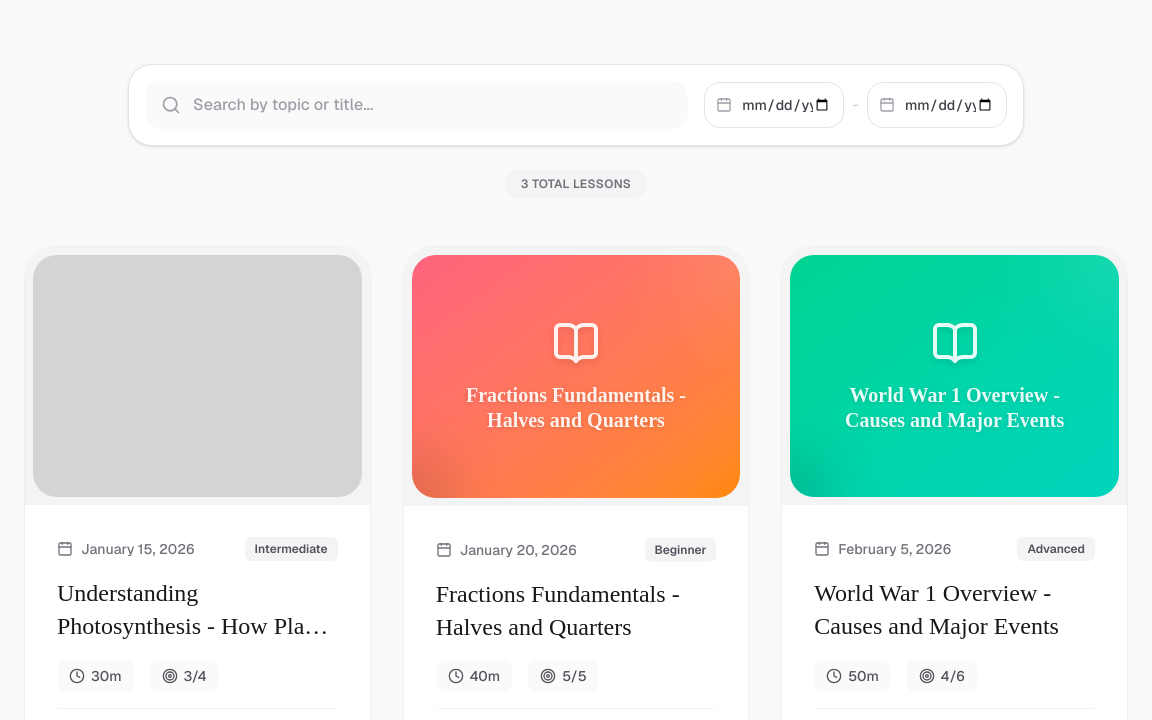
Test: LessonHistoryClient › filters lessons by search query and updates the URL
The image size is (1152, 720).
Type "History" into the field with placeholder "Search by topic or title..." at (417, 105), box top-left (145, 81), bottom-right (688, 129)
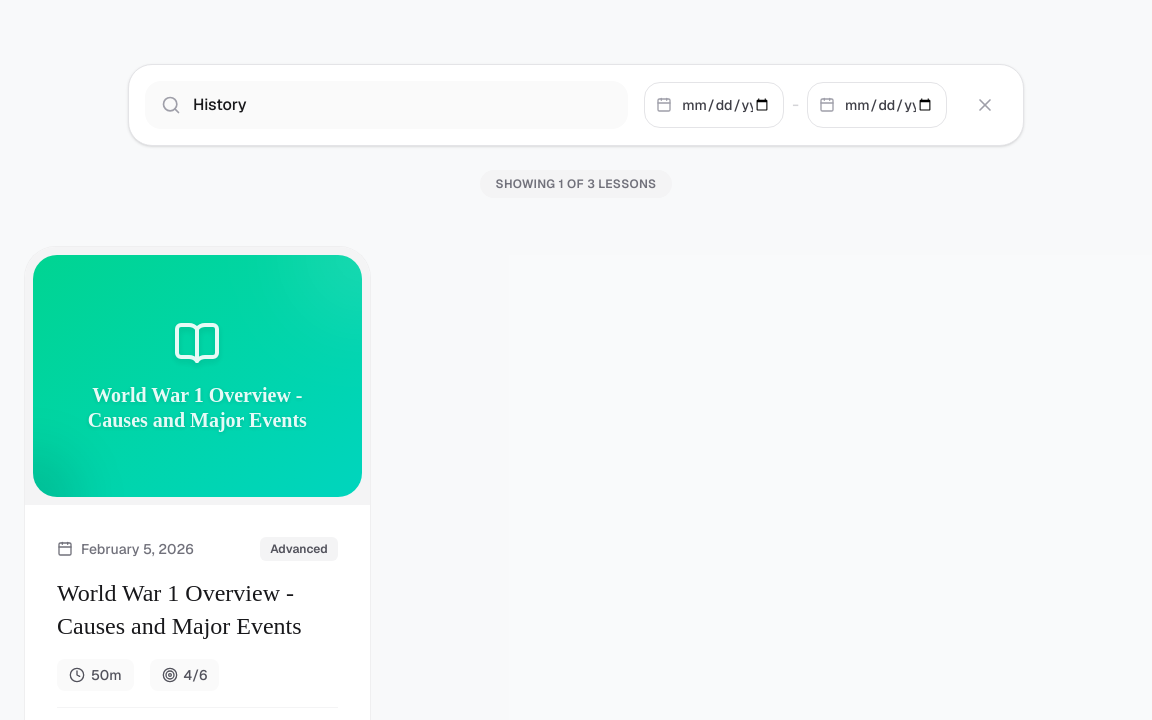
Expected: the text "World War 1 Overview - Causes and Major Events" is shown, top-left (88, 384), bottom-right (307, 431)
Expected: no links "Understanding Photosynthesis - How Plants Make Food" are shown
Expected: the text "Showing 1 of 3 lessons" is shown, top-left (480, 170), bottom-right (672, 198)
